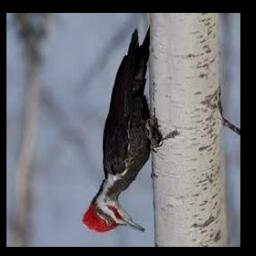Woodpecker: (82, 26, 159, 232)
